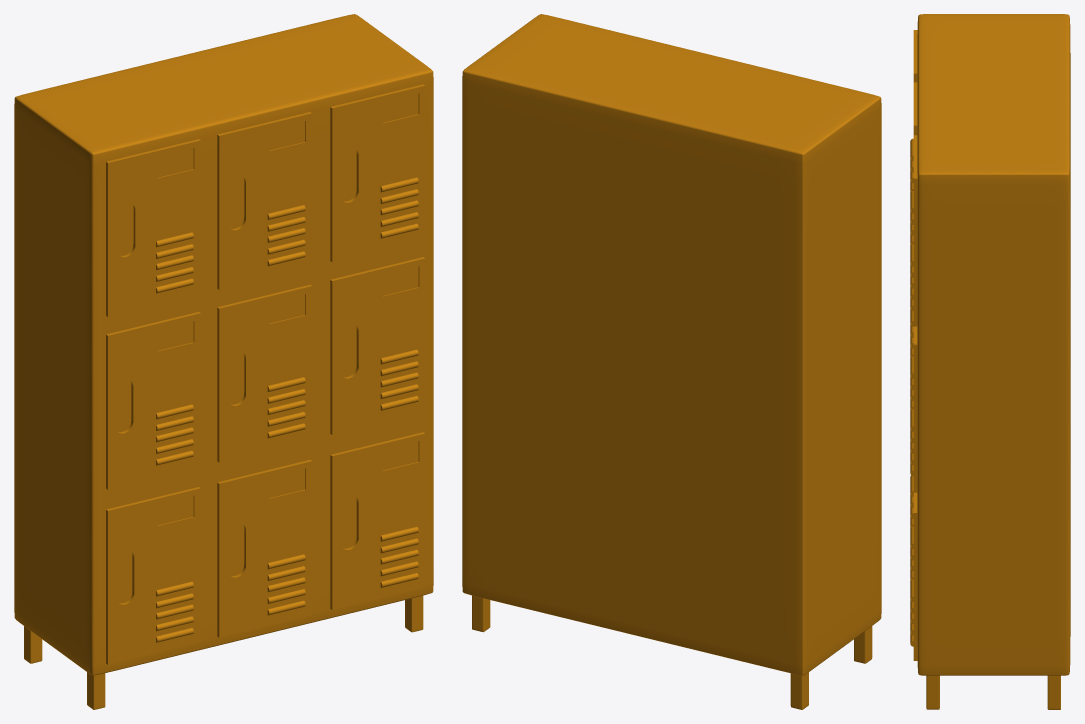
File: Locker.glb
The picture shows the model from 3 angles, left to right: view 1: azimuth 30°, elevation 25°; view 2: azimuth 150°, elevation 25°; view 3: azimuth 270°, elevation 25°; orthographic projection. The views are drawn at different scales.
Visible parts, largest first — view 1: Lock1, Lock50, Lock54, Lock51, Lock55, Lock52, Lock49, Lock47, Lock48, Lock53, Lock57; view 2: Lock1, Lock_2; view 3: Lock1, Lock54, Lock50, Lock51, Lock56, Lock_1.
Part boxes in pixels (x1,y1,x2,y2): Lock1: (14, 14, 433, 675); Lock50: (330, 432, 425, 610); Lock54: (330, 84, 425, 262); Lock51: (330, 257, 425, 434); Lock55: (217, 112, 312, 289); Lock52: (217, 284, 312, 462); Lock49: (217, 460, 312, 637); Lock47: (106, 139, 200, 316); Lock48: (106, 487, 200, 664); Lock53: (106, 312, 200, 489); Lock57: (87, 672, 105, 709); Lock1: (462, 14, 881, 675); Lock_2: (790, 672, 808, 709); Lock1: (917, 14, 1070, 675); Lock54: (913, 135, 917, 326); Lock50: (913, 492, 917, 660); Lock51: (913, 326, 917, 492); Lock56: (926, 675, 939, 709); Lock_1: (1047, 675, 1060, 709).
Size of the model in its own units: 6.72 by 10.52 by 2.83.
